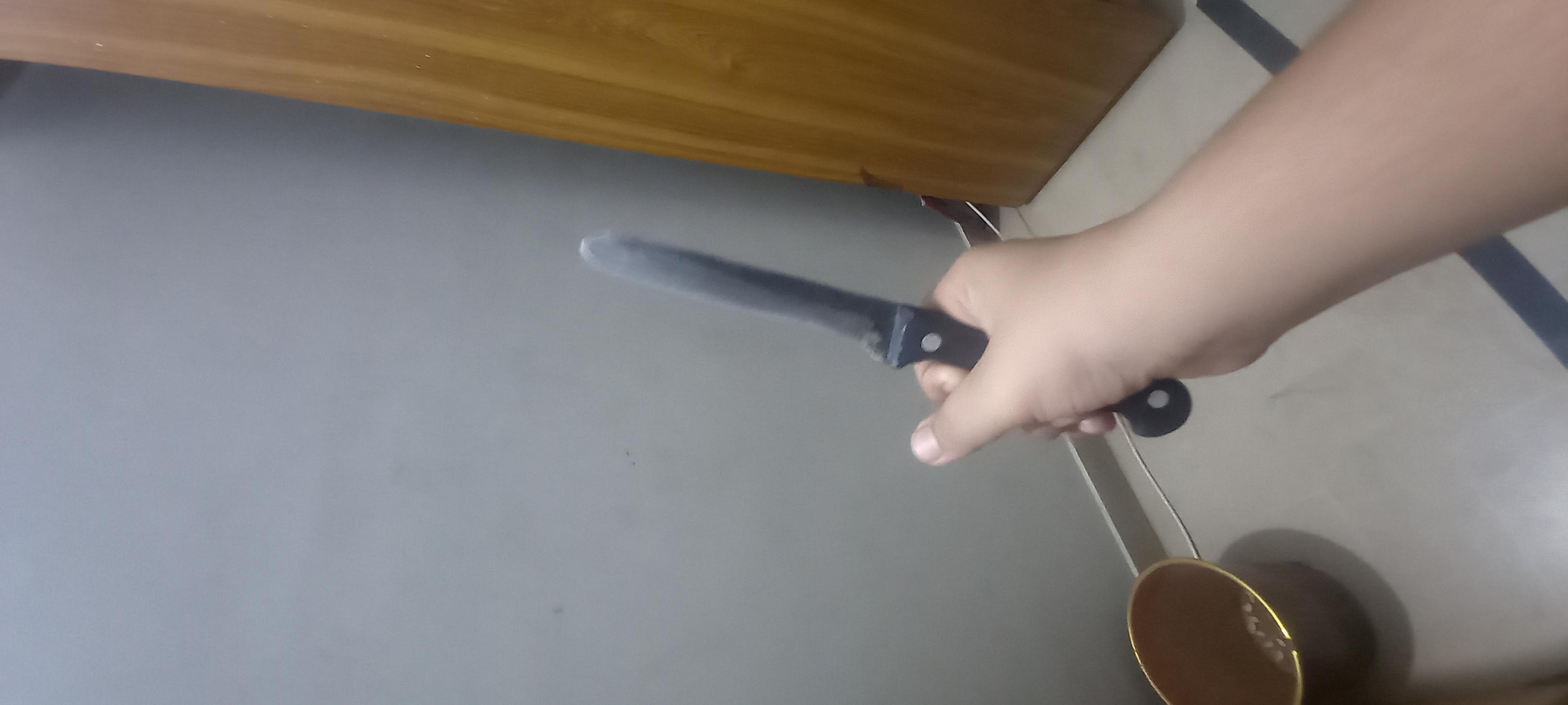knives: (529, 255, 1059, 553)
